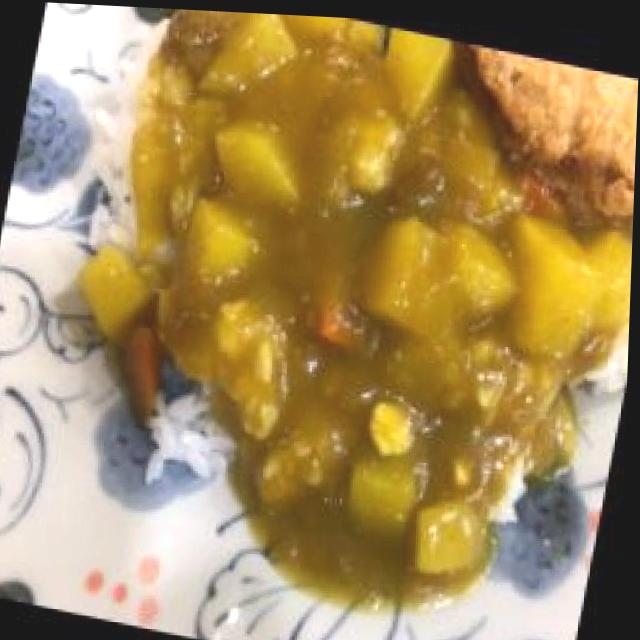curry: (57, 3, 640, 628)
